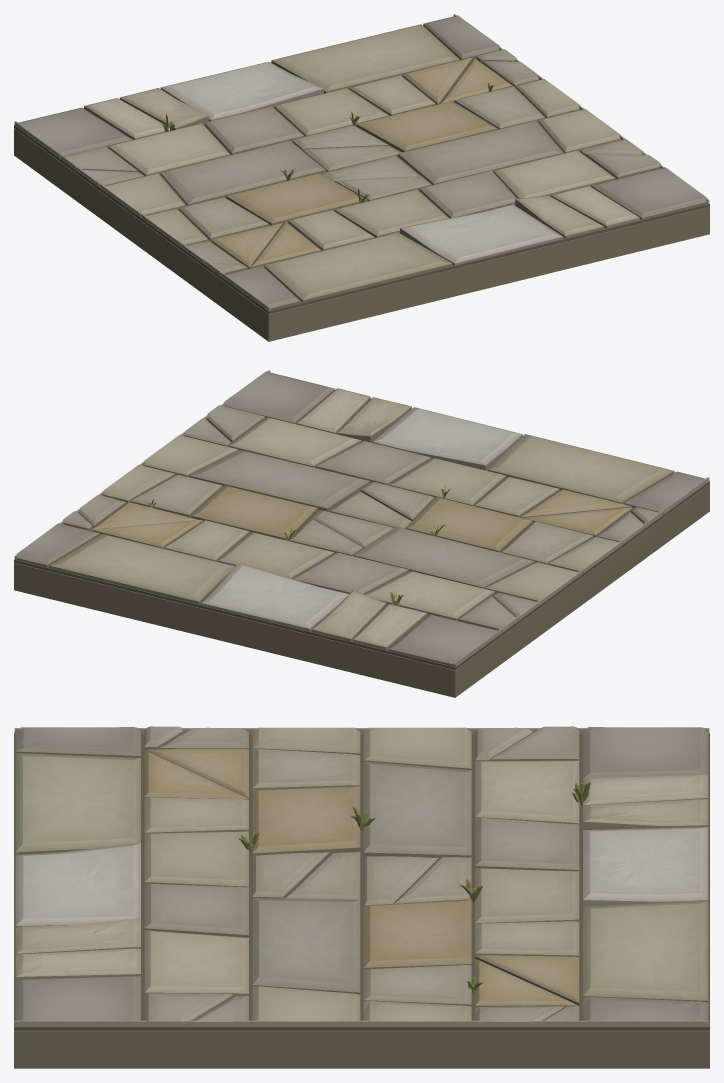
File: agora-flagstone-tile.glb
3 views of the same model, one above another, from view 1: azimuth 30°, elevation 25°; view 2: azimuth 150°, elevation 25°; view 3: azimuth 270°, elevation 25° (orthographic). The views are drawn at different scales.
Parts seen in each view (by area): view 1: agora_flagstone_tile; view 2: agora_flagstone_tile; view 3: agora_flagstone_tile.
Part boxes in pixels (x1,y1,x2,y2): agora_flagstone_tile: (14,14,709,341); agora_flagstone_tile: (14,370,709,697); agora_flagstone_tile: (14,726,709,1068).
Size of the model in its own units: 4 by 0.4104 by 4.
